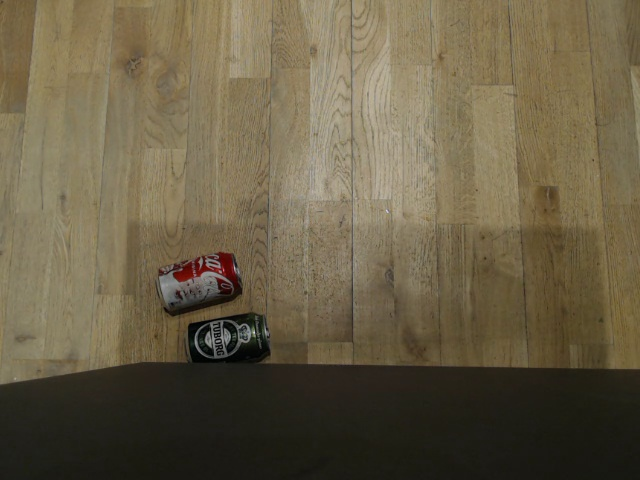beer: (181, 312, 271, 364)
cola: (151, 247, 244, 312)
